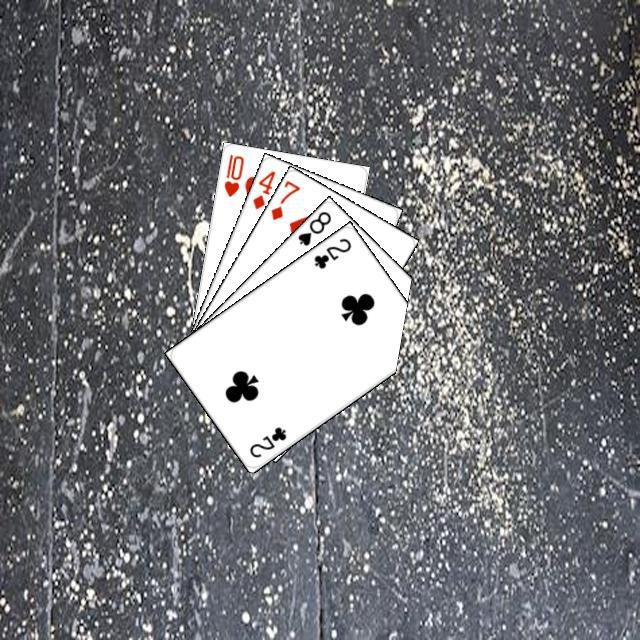10h: (219, 149, 246, 199)
2c: (309, 233, 353, 271), (244, 422, 288, 460)
4d: (248, 166, 277, 211)
7d: (266, 176, 302, 222)
8s: (293, 206, 333, 248)
